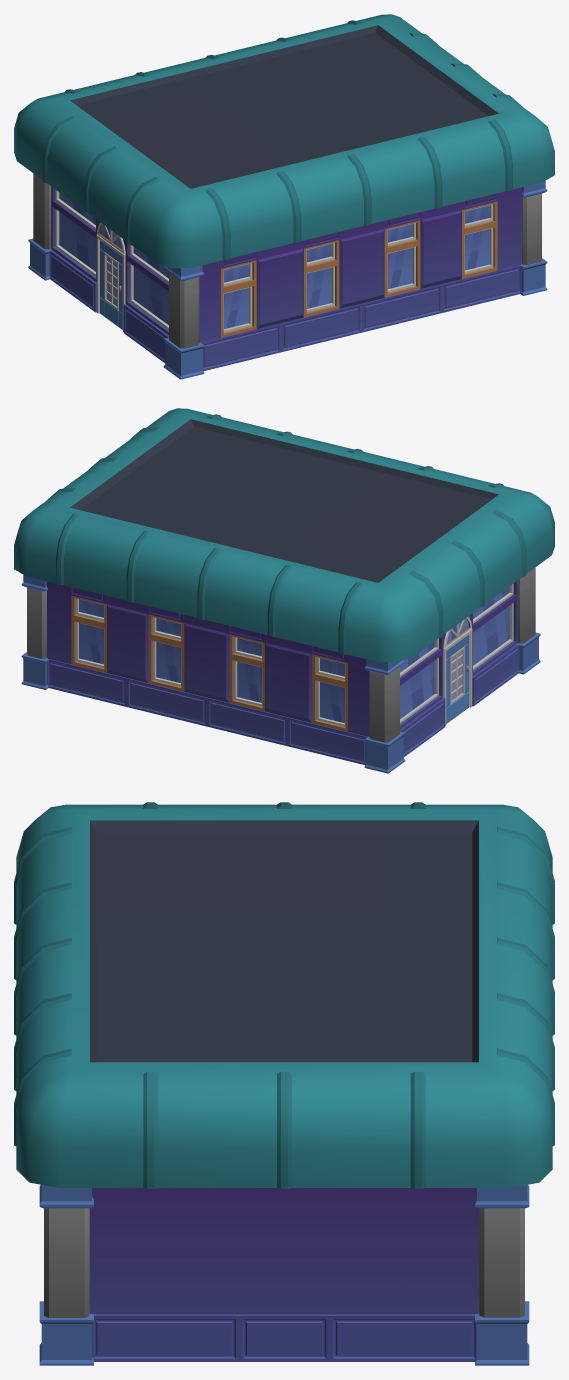
Rendered from Building_12_D.fbx.
3 renders of one model, top to bottom at view 1: azimuth 30°, elevation 25°; view 2: azimuth 150°, elevation 25°; view 3: azimuth 270°, elevation 25°, orthographic. The views are drawn at different scales.
Visible parts, largest first — view 1: Building_12_D; view 2: Building_12_D; view 3: Building_12_D.
Part boxes in pixels (x1,y1,x2,y2): Building_12_D: [14, 14, 554, 379]; Building_12_D: [14, 408, 554, 773]; Building_12_D: [14, 802, 554, 1365].
Size of the model in its own units: 1053 by 440 by 770.
